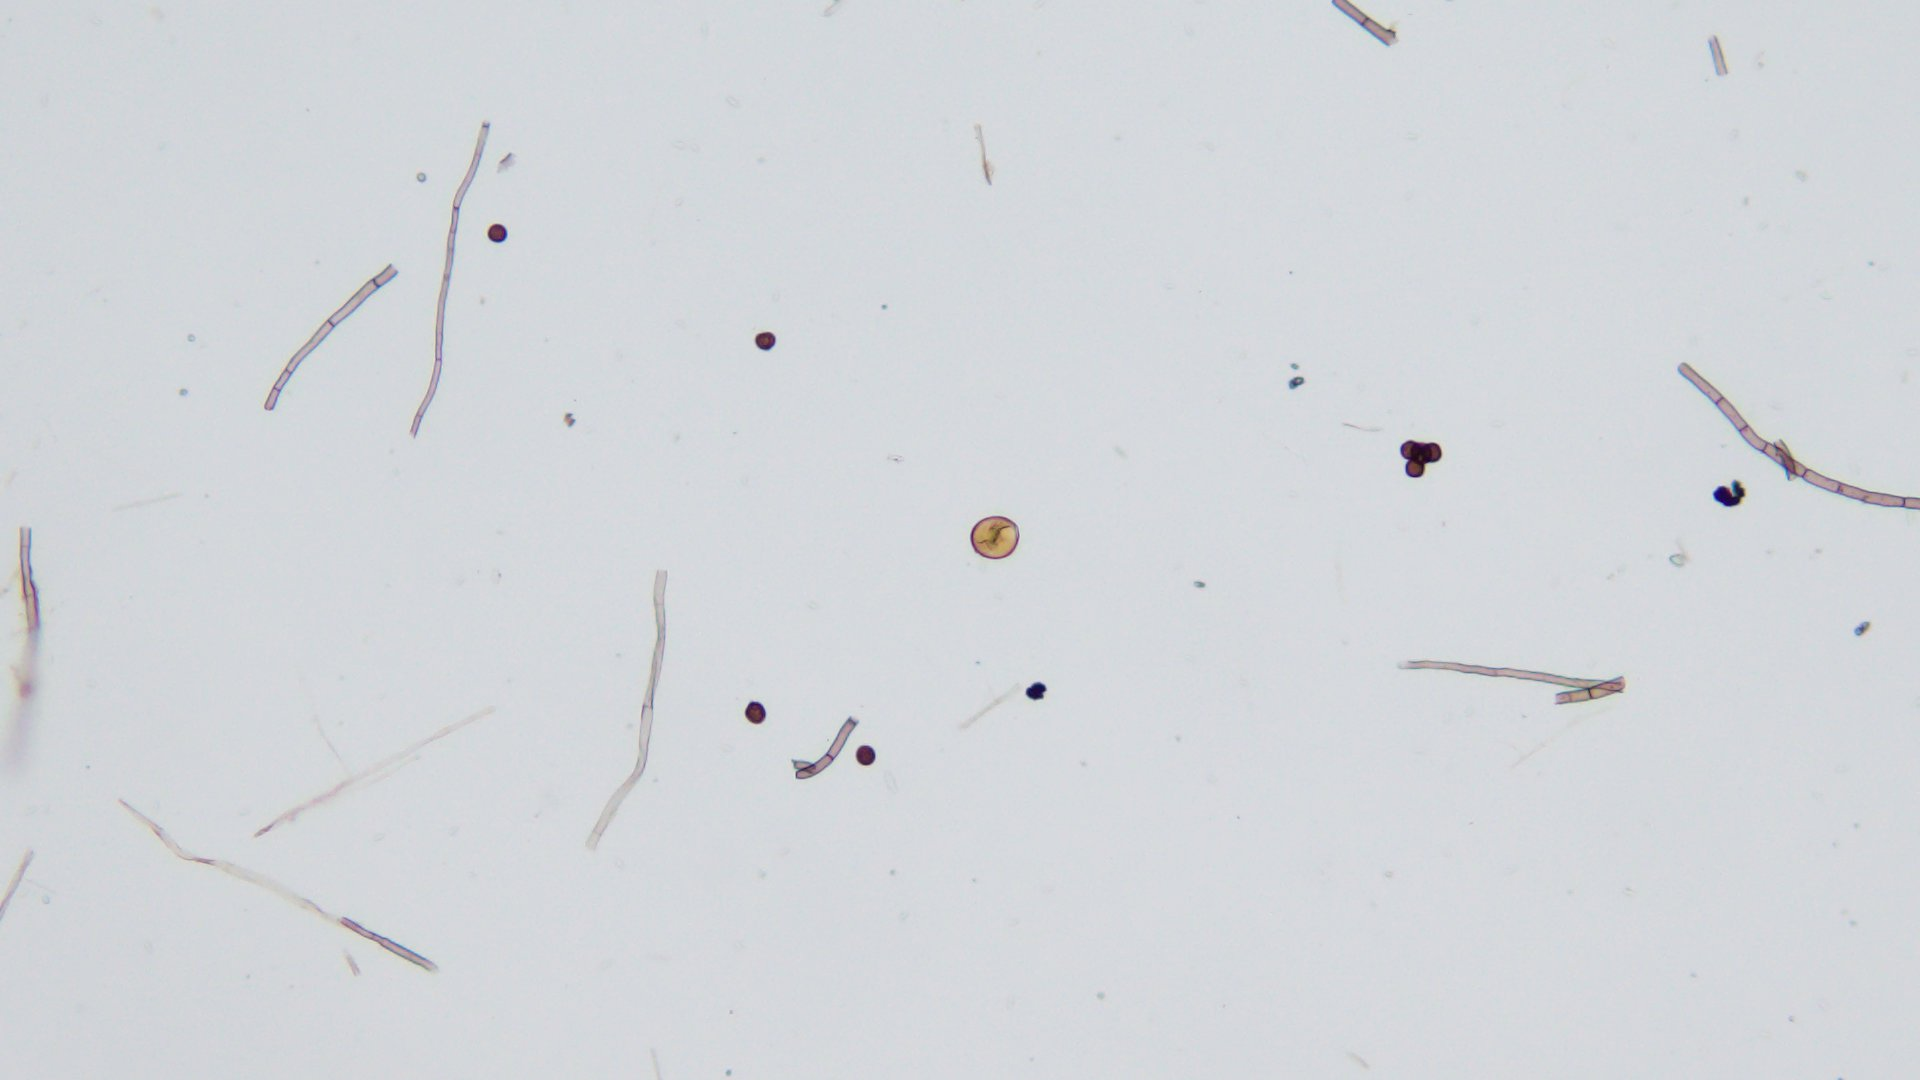shs_spore: (742, 702, 767, 725), (855, 744, 878, 766), (754, 331, 777, 353), (1399, 439, 1422, 462), (1422, 442, 1443, 464), (1404, 458, 1427, 477), (487, 224, 508, 243)
xb_spore: (969, 516, 1021, 560)
